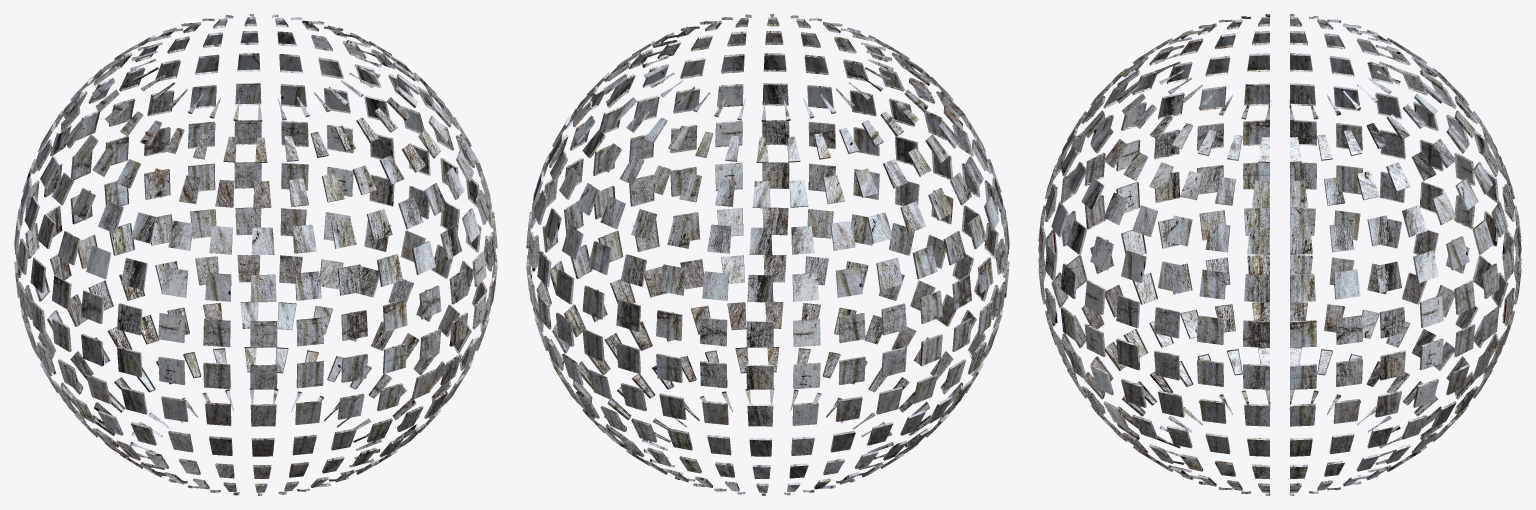
File: frontier.FBX
The picture shows the model from 3 angles, left to right: view 1: azimuth 30°, elevation 25°; view 2: azimuth 150°, elevation 25°; view 3: azimuth 270°, elevation 25°; orthographic projection.
Visible parts, largest first — view 1: sfera; view 2: sfera; view 3: sfera.
Part boxes in pixels (x1=…): sfera: x1=14, y1=14, x2=497, y2=495; sfera: x1=526, y1=14, x2=1009, y2=495; sfera: x1=1038, y1=14, x2=1521, y2=495.
Bounding box in the file's own units: 200 × 181 × 200.
Materials: 1 (1 with a texture image).
